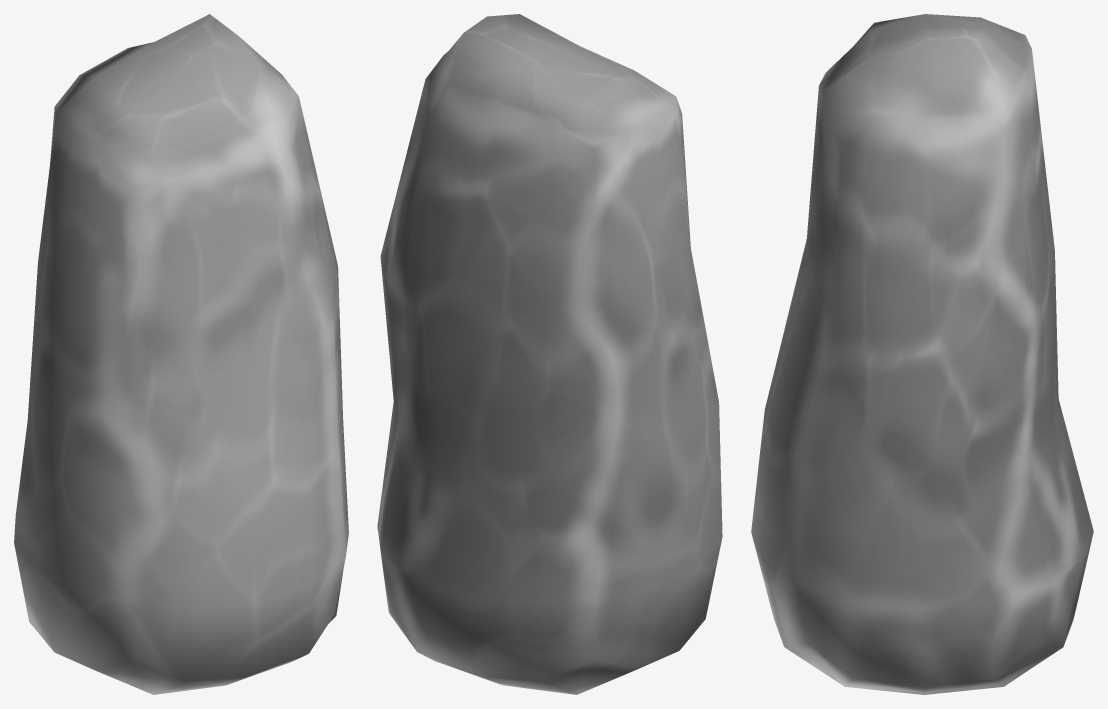
The model's file is roca8.fbx.
3 views of the same model, side by side, from view 1: azimuth 30°, elevation 25°; view 2: azimuth 150°, elevation 25°; view 3: azimuth 270°, elevation 25° (orthographic). The views are drawn at different scales.
Visible parts, largest first — view 1: roca8; view 2: roca8; view 3: roca8.
Boxes of the visible parts, <box> form: roca8: <box>14,14,348,694</box>; roca8: <box>377,14,722,694</box>; roca8: <box>751,14,1093,694</box>.
Size of the model in its own units: 8.7 by 17.7 by 8.46.
